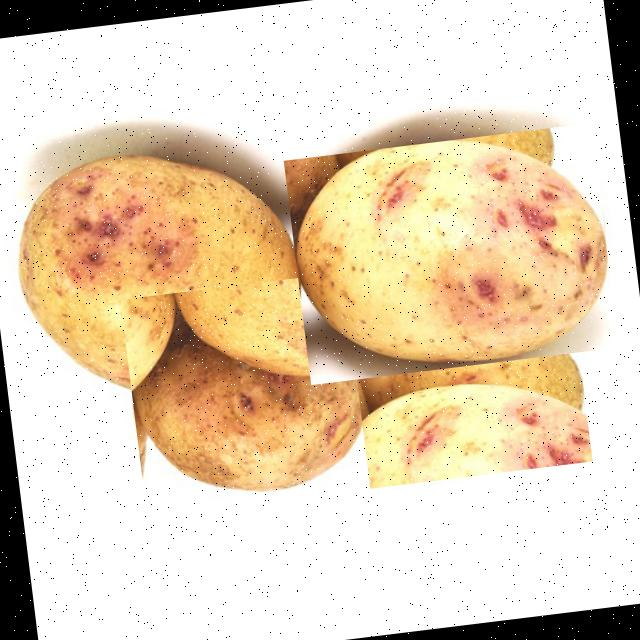Diseased-fungal potato: (282, 121, 618, 384), (2, 130, 308, 412), (119, 270, 377, 507), (344, 262, 591, 488)
